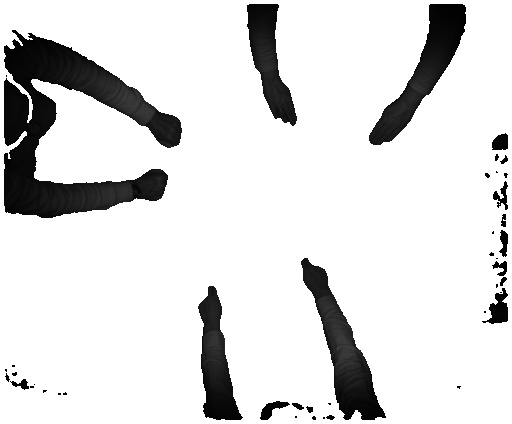fist: (147, 112, 183, 151), (136, 168, 167, 207)
hand: (368, 101, 410, 151), (260, 79, 303, 127), (296, 256, 335, 296), (192, 280, 223, 329)
